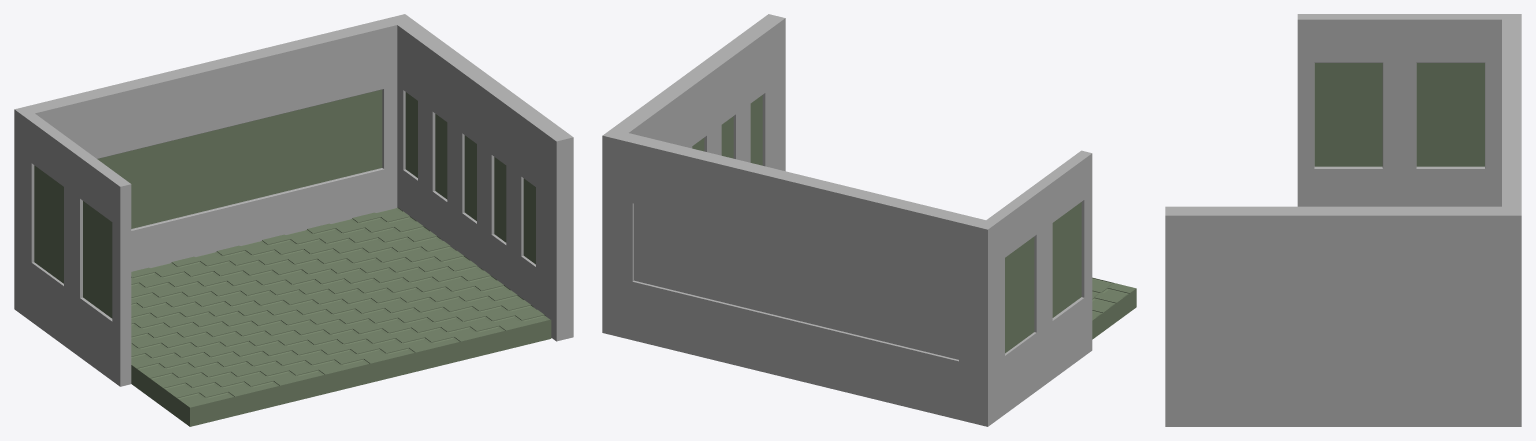
The model's file is Ground.glb.
3 views of the same model, side by side, from view 1: azimuth 30°, elevation 25°; view 2: azimuth 150°, elevation 25°; view 3: azimuth 270°, elevation 25° (orthographic). The views are drawn at different scales.
Visible parts, largest first — view 1: Ground; view 2: Ground; view 3: Ground.
Part boxes in pixels (bbox=[...]): Ground: bbox=[14, 14, 573, 426]; Ground: bbox=[602, 14, 1136, 426]; Ground: bbox=[1165, 14, 1521, 426].
Bounding box in the file's own units: 19.47 × 9.6 × 14.54.
